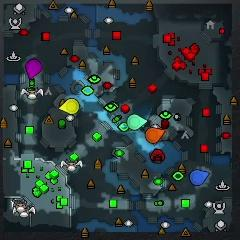p1: (189, 169, 210, 185)
p2: (127, 114, 147, 131)
p3: (26, 59, 42, 78)
p4: (59, 98, 79, 114)
p5: (146, 128, 165, 143)
